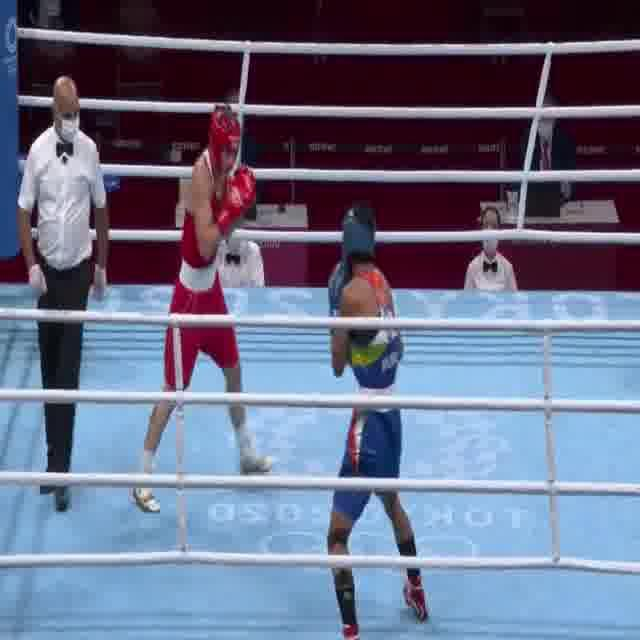blue-player: (322, 200, 430, 640)
red-player: (126, 98, 274, 518)
referee: (17, 69, 112, 519)
